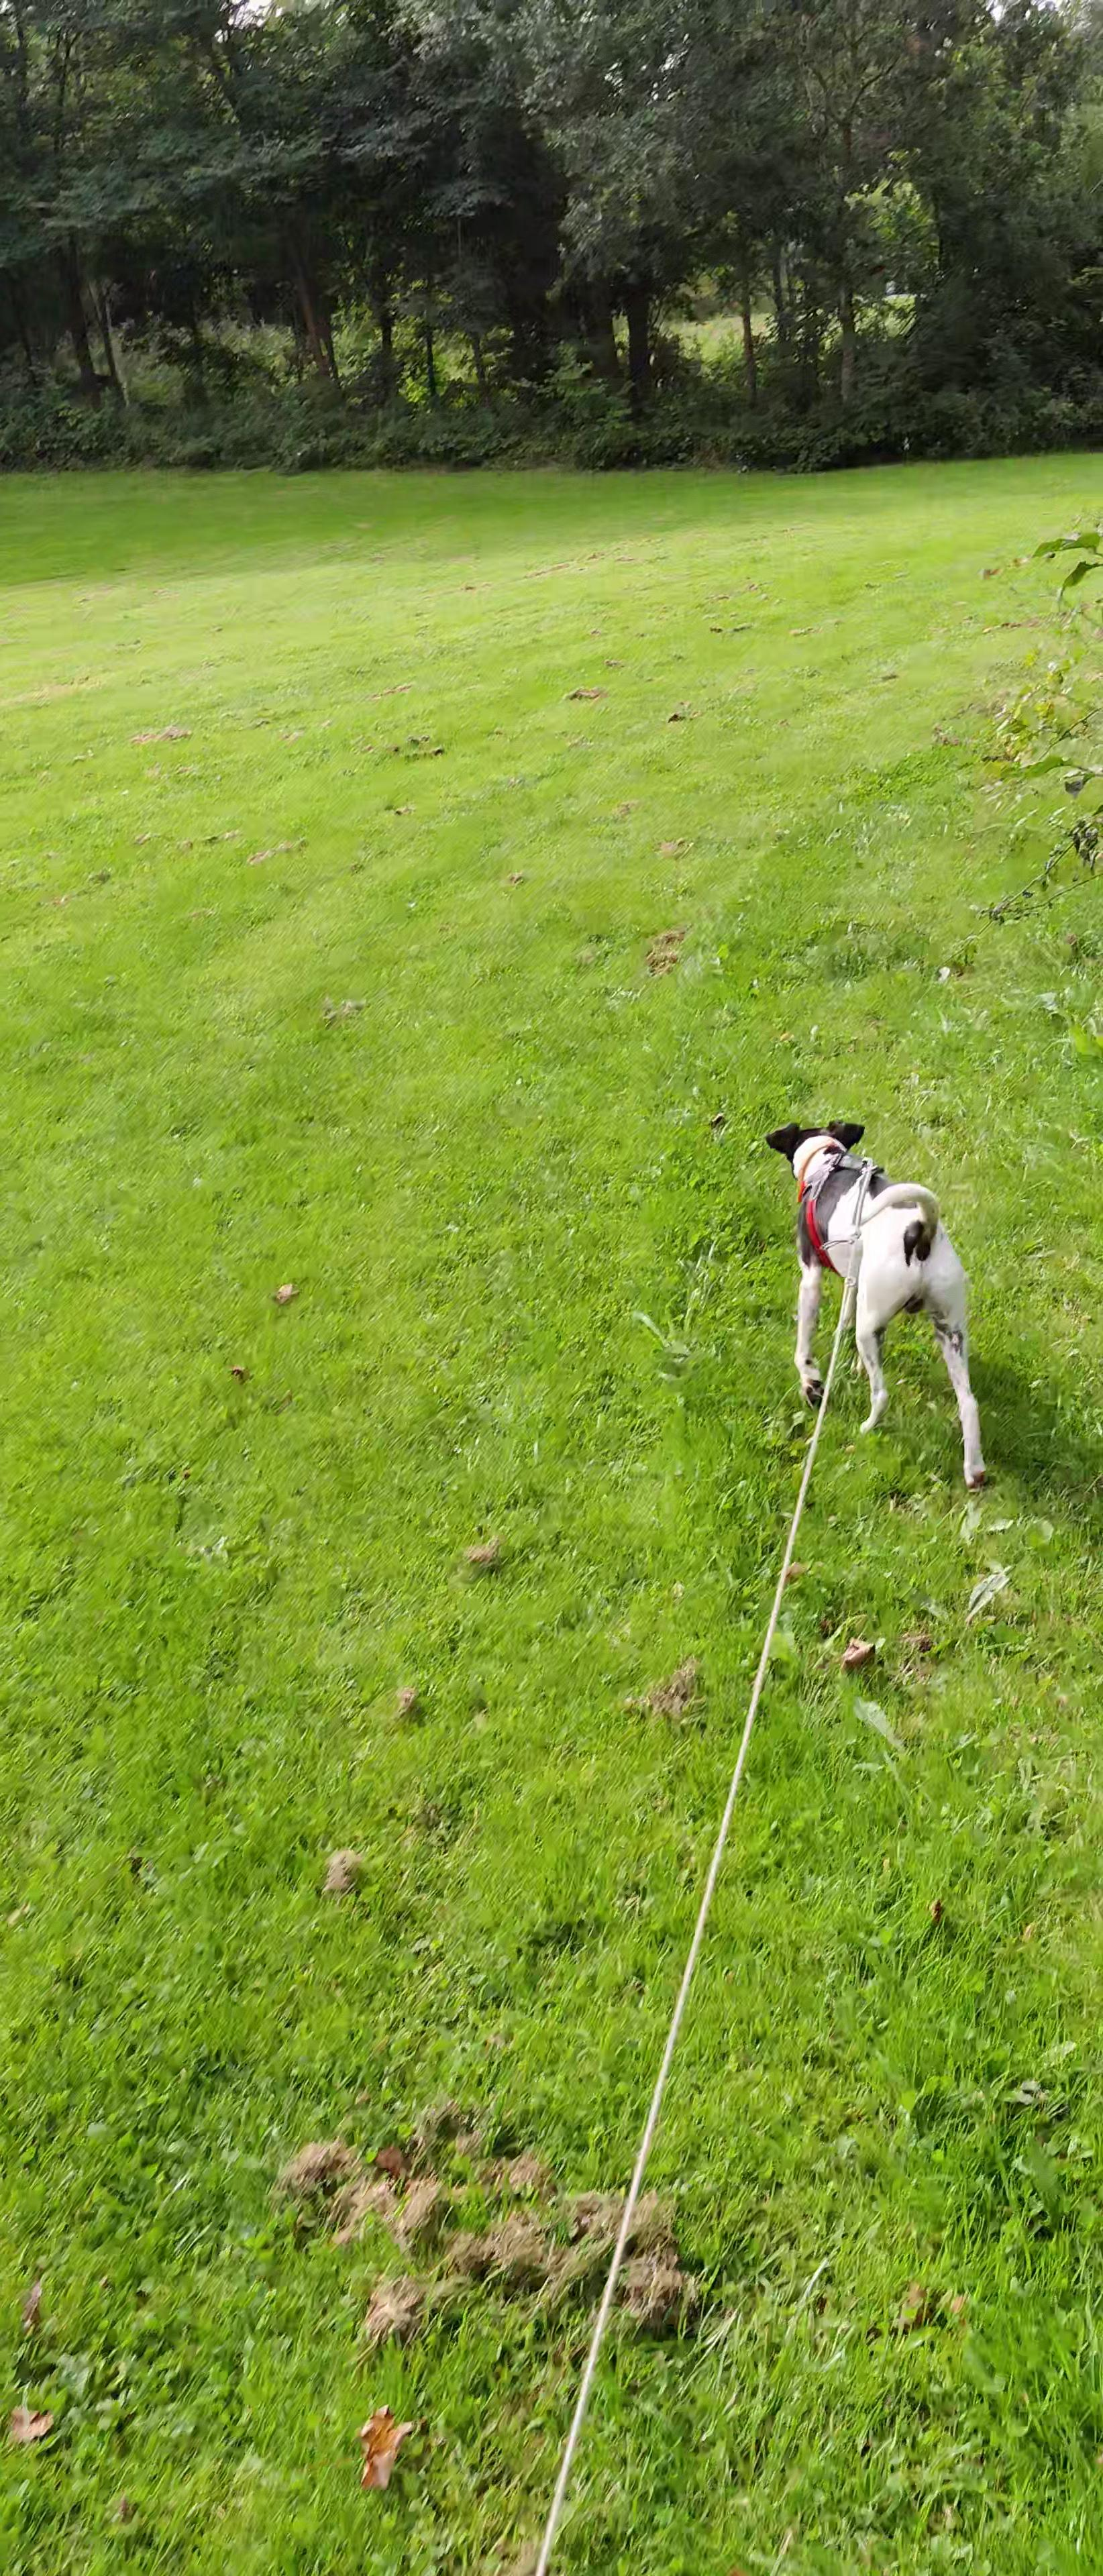Dog: (748, 1092, 1011, 1506)
